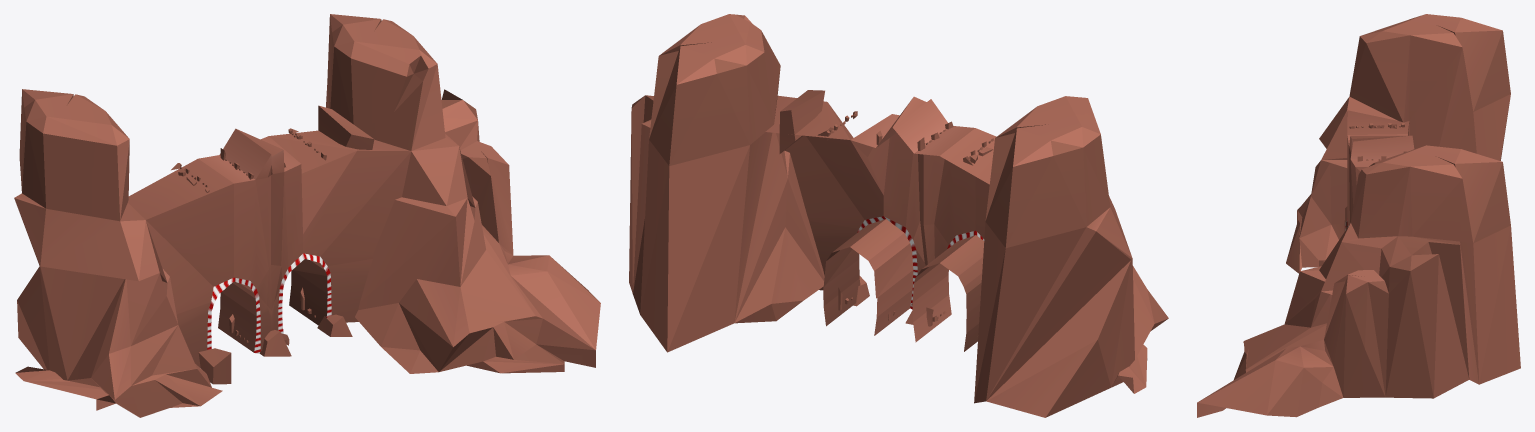
File: gate_clif_rock_01.fbx
The picture shows the model from 3 angles, left to right: view 1: azimuth 30°, elevation 25°; view 2: azimuth 150°, elevation 25°; view 3: azimuth 270°, elevation 25°; orthographic projection. The views are drawn at different scales.
Parts seen in each view (by area): view 1: gate3; view 2: gate3; view 3: gate3.
Boxes of the visible parts, bbox=[...] form: gate3: bbox=[14, 14, 600, 417]; gate3: bbox=[629, 14, 1168, 417]; gate3: bbox=[1197, 14, 1520, 417].
Bounding box in the file's own units: 1137 × 575 × 718.
